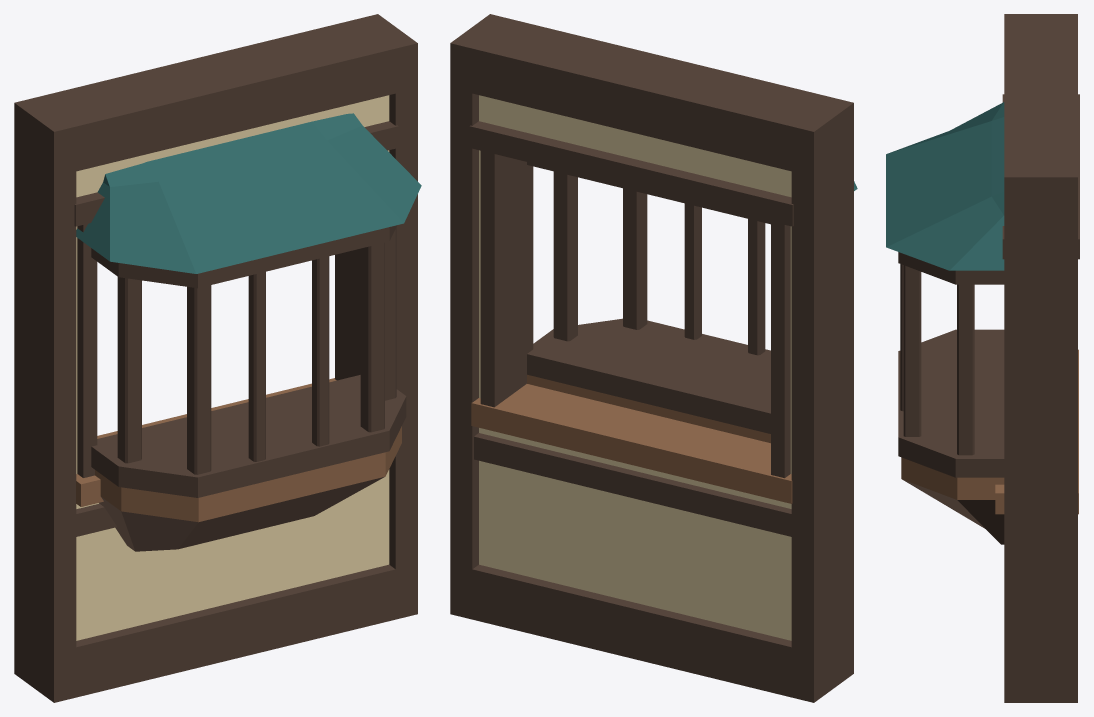
The model's file is oriel_window.glb.
3 views of the same model, side by side, from view 1: azimuth 30°, elevation 25°; view 2: azimuth 150°, elevation 25°; view 3: azimuth 270°, elevation 25° (orthographic). The views are drawn at different scales.
Visible parts, largest first — view 1: Oriel window; view 2: Oriel window; view 3: Oriel window.
Boxes of the visible parts, box(x1,y1,x2,y2) form: Oriel window: box(14, 14, 421, 702); Oriel window: box(450, 14, 857, 702); Oriel window: box(886, 14, 1079, 702).
Bounding box in the file's own units: 1 × 1.5 × 0.501.
